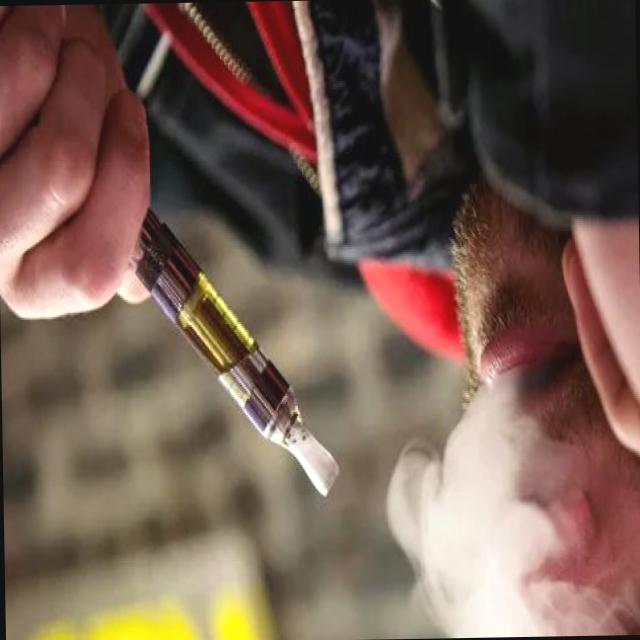cigarette: (116, 196, 342, 512)
